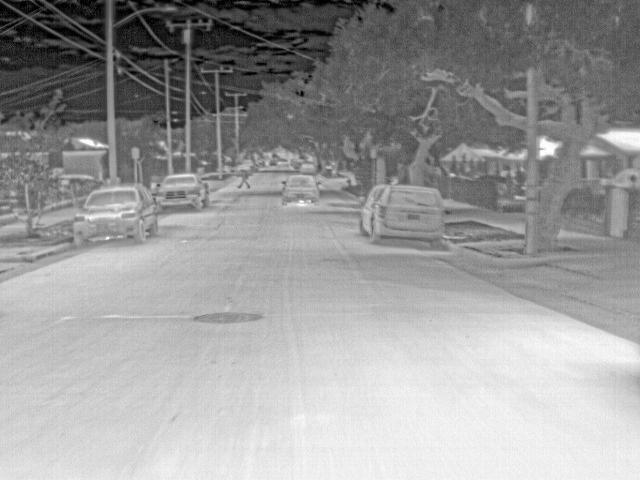car: (358, 183, 446, 250), (73, 182, 159, 246), (157, 173, 210, 213), (280, 173, 321, 207), (299, 162, 316, 174), (254, 156, 268, 168), (242, 158, 256, 170), (290, 158, 302, 170), (269, 155, 279, 166)
person: (238, 170, 250, 190), (329, 160, 339, 176)
